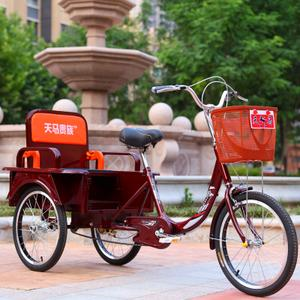empty: (16, 81, 300, 296)
